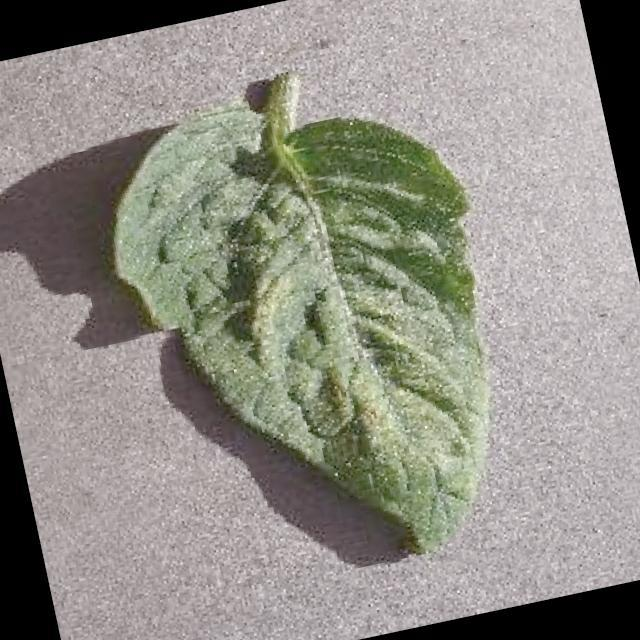Tomato spider mites leaf: (86, 60, 536, 609)
